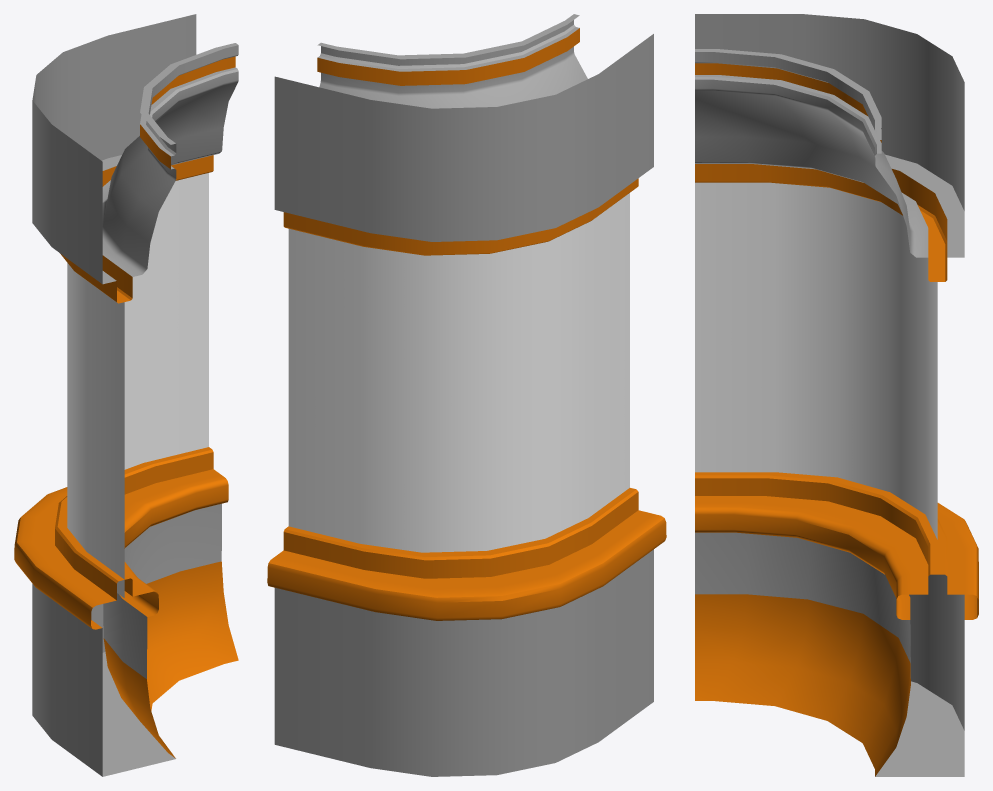
Rendered from SM_window_corner.fbx.
3 views of the same model, side by side, from view 1: azimuth 30°, elevation 25°; view 2: azimuth 150°, elevation 25°; view 3: azimuth 270°, elevation 25° (orthographic). The views are drawn at different scales.
Visible parts, largest first — view 1: polySurface26; view 2: polySurface26; view 3: polySurface26.
Part boxes in pixels (x1,y1,x2,y2): polySurface26: (14, 14, 238, 776); polySurface26: (267, 14, 666, 776); polySurface26: (695, 14, 978, 776).
Bounding box in the file's own units: 1.58 × 3.98 × 1.58.
